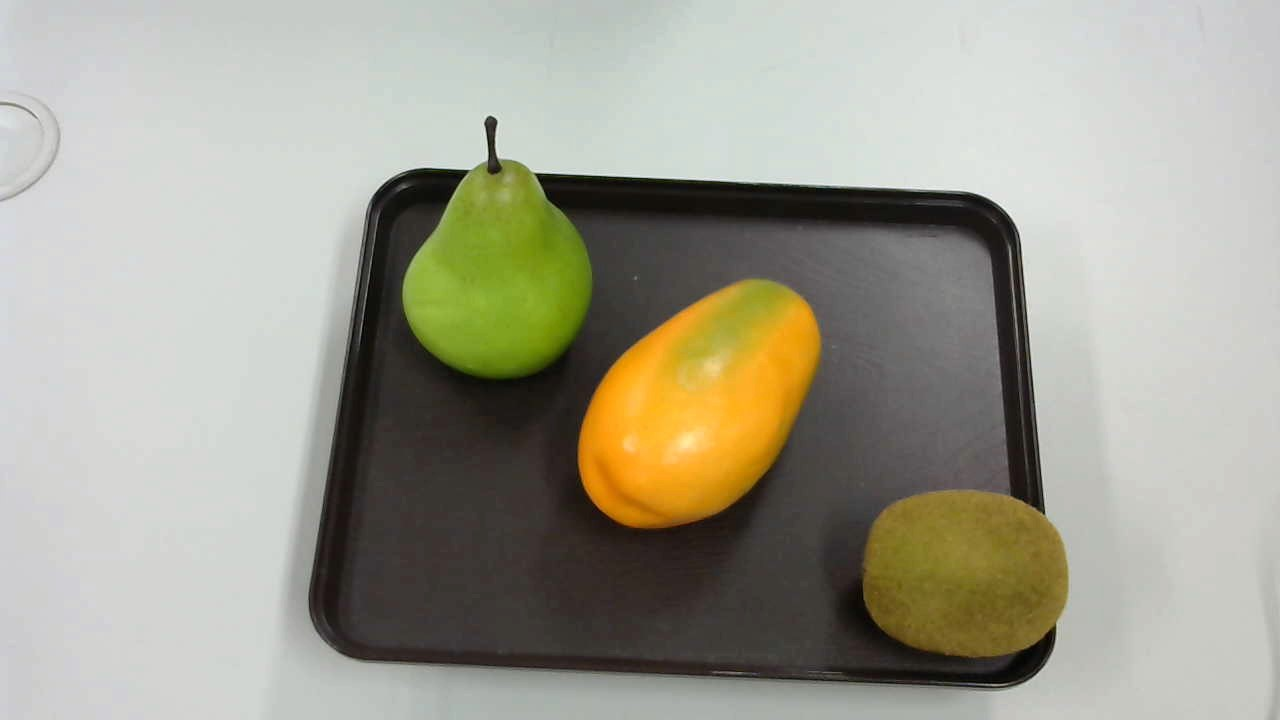green pear: (399, 108, 595, 384)
kiwi fruit: (858, 485, 1074, 661)
papya: (572, 275, 823, 531)
